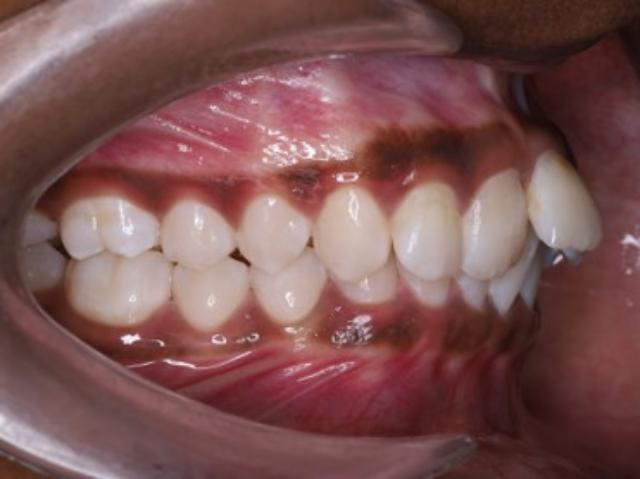canine class II 1/4: (245, 166, 401, 334)
molar class II 1/4: (54, 194, 174, 342)
